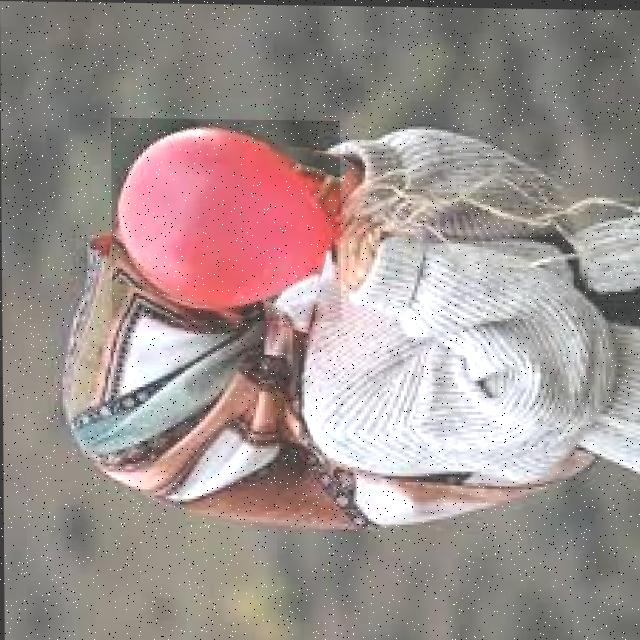balloon: (111, 116, 341, 320)
